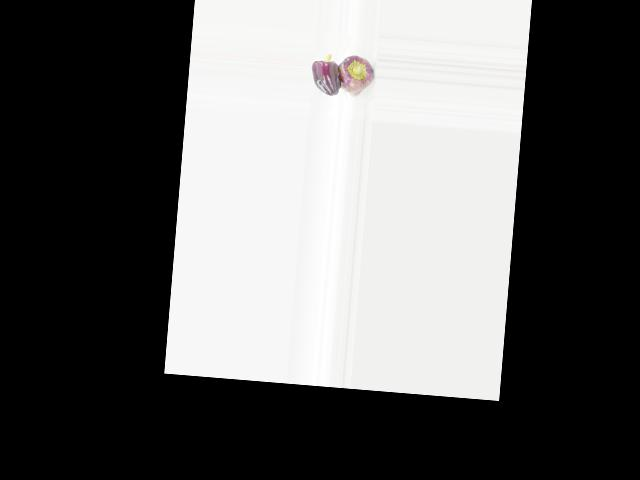bell_pepper: (334, 46, 377, 105)
